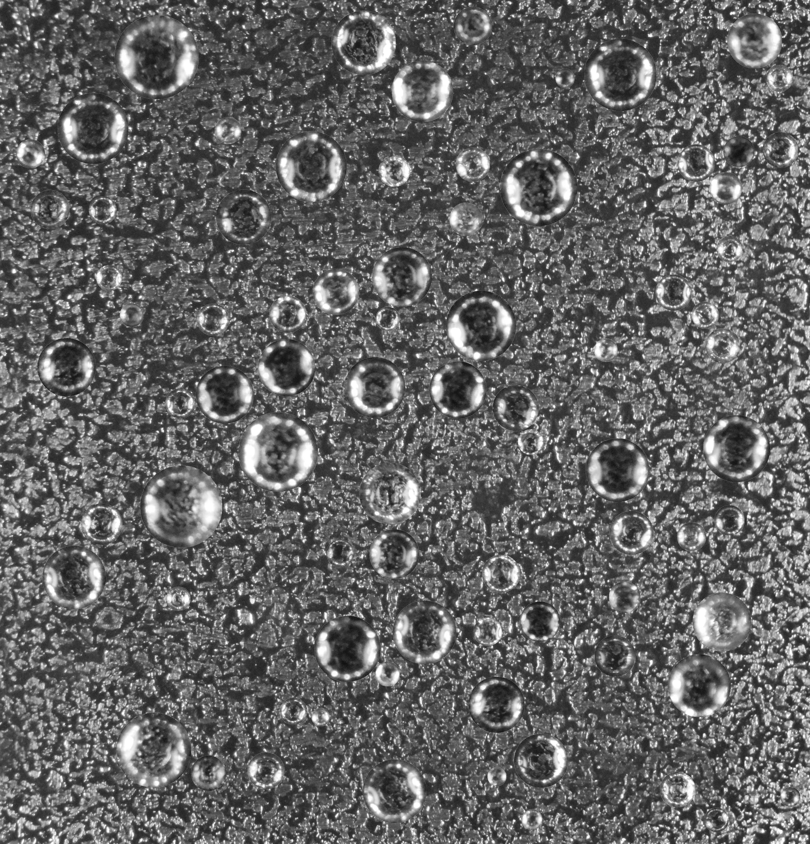Bubble: (114, 15, 198, 99), (140, 465, 222, 547), (238, 412, 317, 491), (500, 148, 577, 226), (116, 712, 191, 787), (584, 38, 656, 110), (275, 131, 346, 201), (57, 93, 128, 163), (446, 290, 516, 360), (703, 415, 770, 482), (314, 615, 380, 681), (392, 600, 456, 664), (362, 759, 426, 823), (331, 10, 395, 74), (585, 438, 649, 501), (42, 545, 105, 609), (668, 654, 730, 717), (359, 462, 420, 524), (391, 60, 453, 121), (344, 357, 405, 417), (692, 592, 751, 651), (372, 247, 431, 306), (37, 338, 95, 396), (195, 365, 253, 423), (257, 339, 315, 396), (429, 361, 486, 418), (468, 676, 524, 732), (727, 13, 782, 68), (216, 189, 271, 244), (514, 733, 568, 787), (369, 529, 419, 578), (312, 268, 358, 314), (492, 385, 538, 430), (609, 510, 653, 554), (594, 635, 635, 676), (81, 503, 122, 544), (519, 601, 560, 642), (453, 6, 492, 45), (30, 190, 69, 228), (482, 554, 519, 592), (269, 295, 306, 332), (247, 752, 284, 789), (677, 144, 714, 181), (655, 274, 691, 310), (762, 132, 798, 167), (705, 328, 740, 363), (191, 755, 226, 790), (660, 772, 695, 807), (455, 147, 489, 181), (449, 202, 482, 235), (709, 172, 742, 204), (197, 303, 229, 335), (378, 155, 410, 186), (609, 581, 640, 613), (723, 136, 754, 166), (714, 505, 744, 535), (165, 388, 195, 418), (677, 522, 706, 551), (16, 139, 44, 168), (326, 539, 354, 567), (473, 617, 501, 645), (88, 196, 116, 224), (691, 301, 718, 328), (280, 697, 307, 724), (214, 117, 241, 143), (766, 64, 792, 91), (716, 235, 742, 261), (96, 265, 121, 290), (518, 429, 543, 454), (704, 807, 728, 832), (375, 661, 399, 686), (166, 586, 190, 610), (375, 306, 399, 330), (119, 303, 143, 326), (594, 338, 617, 361), (521, 809, 542, 829), (780, 787, 800, 806), (487, 767, 506, 786), (555, 68, 574, 87), (311, 708, 329, 726)
